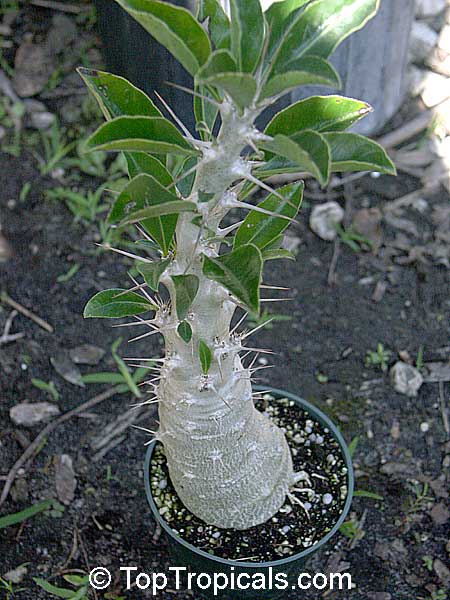Pachypodium saundersii: (67, 4, 406, 544)
